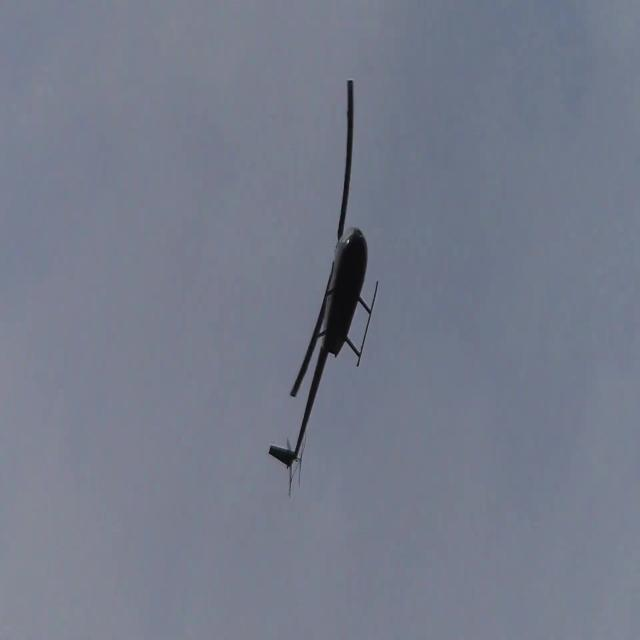CIV_HELO: (268, 226, 379, 469)
